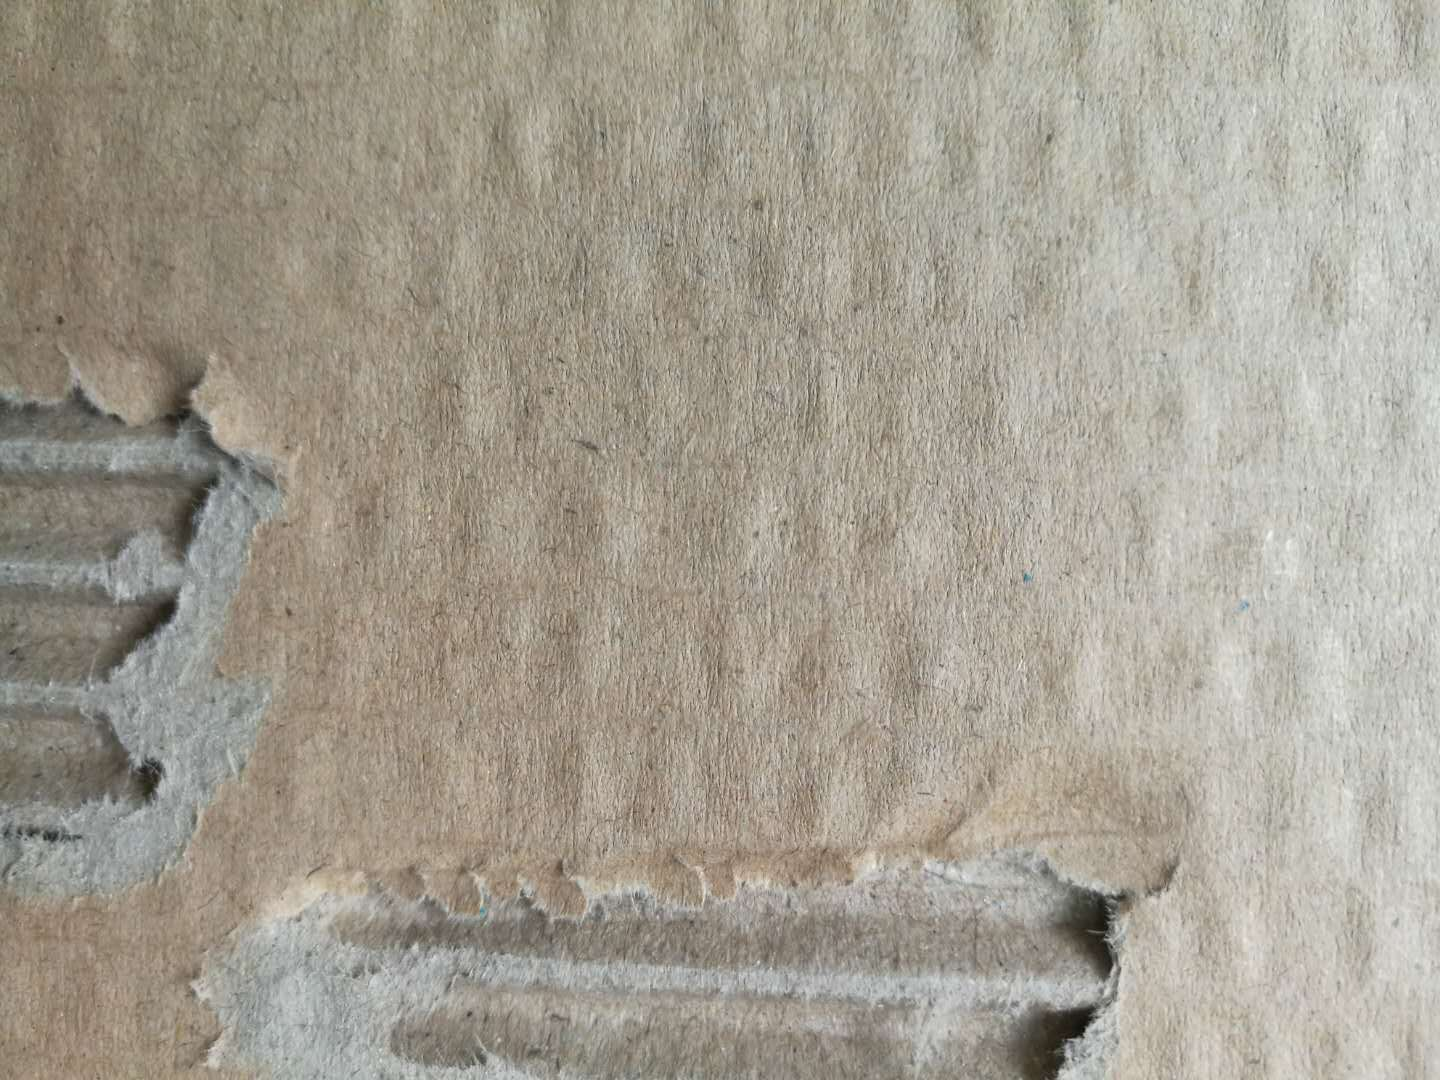defect: (167, 750, 1278, 1079), (3, 317, 334, 929)
